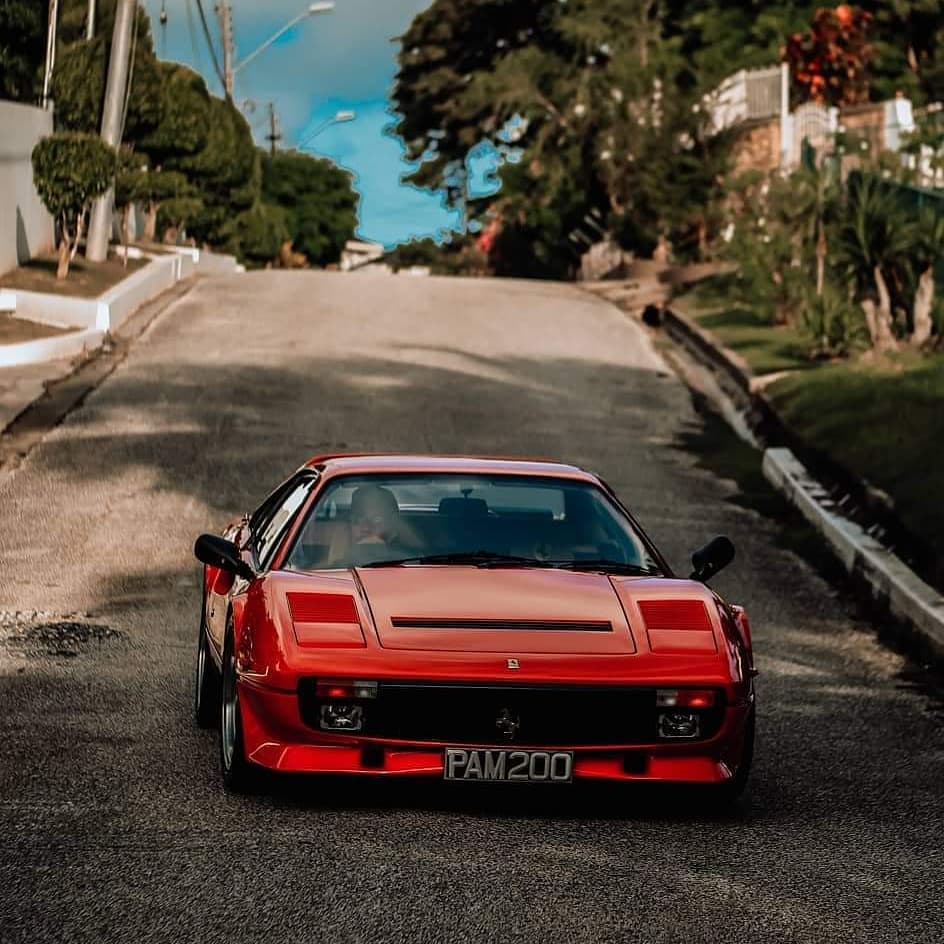License-Plate: (444, 744, 573, 778)
